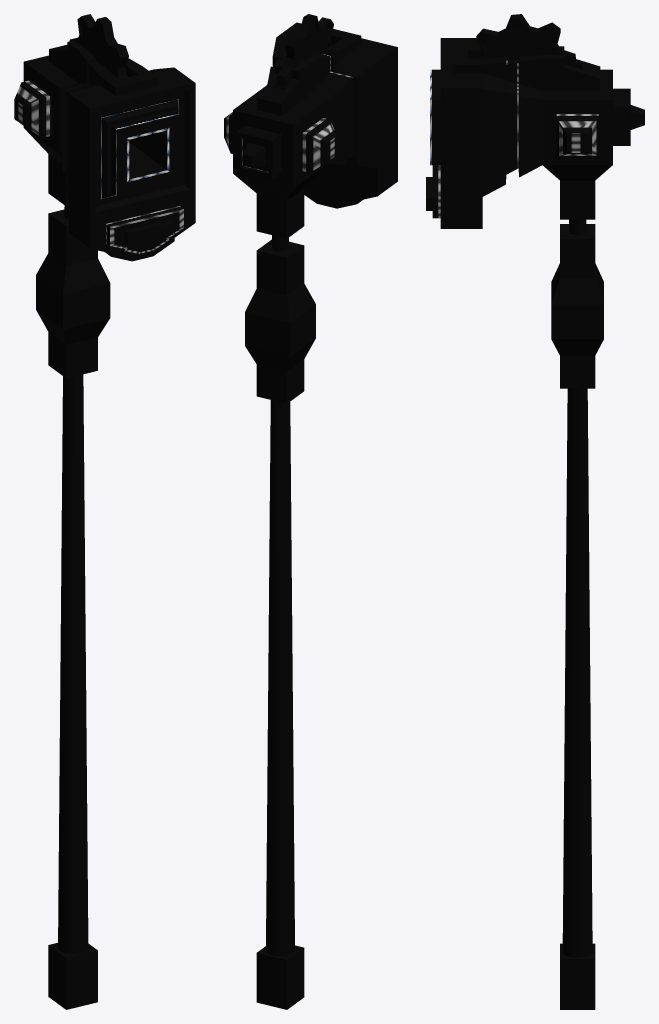
The model's file is Dispenser_2_0.fbx.
3 views of the same model, side by side, from view 1: azimuth 30°, elevation 25°; view 2: azimuth 150°, elevation 25°; view 3: azimuth 270°, elevation 25° (orthographic). The views are drawn at different scales.
Visible parts, largest first — view 1: Dispenser, Dispenser_Prop_0, Dispenser_Prop_1, Gear; view 2: Dispenser, Dispenser_Prop_0, Dispenser_Prop_1, Gear; view 3: Dispenser, Dispenser_Prop_0, Dispenser_Prop_1, Gear.
Part boxes in pixels (<box>): Dispenser: <box>14,40,195,261</box>; Dispenser_Prop_0: <box>48,154,97,1009</box>; Dispenser_Prop_1: <box>36,209,110,378</box>; Gear: <box>69,14,128,78</box>; Dispenser: <box>224,22,397,208</box>; Dispenser_Prop_0: <box>256,188,304,1009</box>; Dispenser_Prop_1: <box>245,239,315,403</box>; Gear: <box>276,14,333,89</box>; Dispenser: <box>426,38,644,228</box>; Dispenser_Prop_0: <box>560,180,595,1009</box>; Dispenser_Prop_1: <box>551,224,603,388</box>; Gear: <box>476,14,576,67</box>.
Bounding box in the file's own units: 1.01 × 9.08 × 1.83.
1 material, 1 textured.
